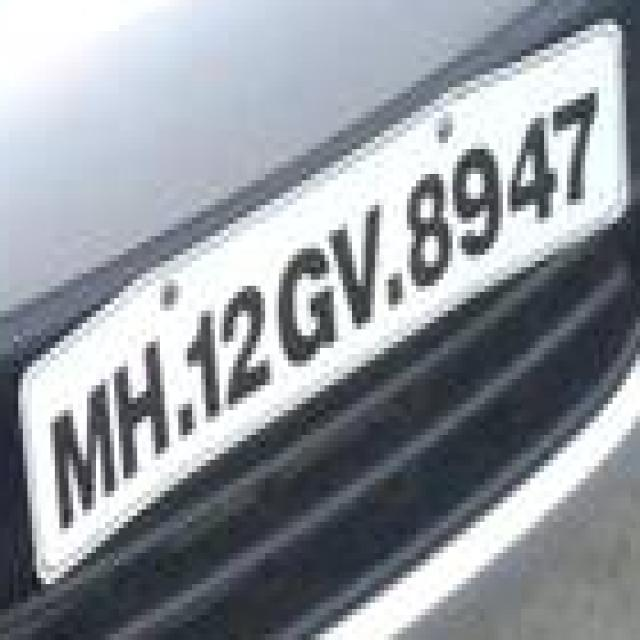license_plate: (28, 93, 636, 534)
